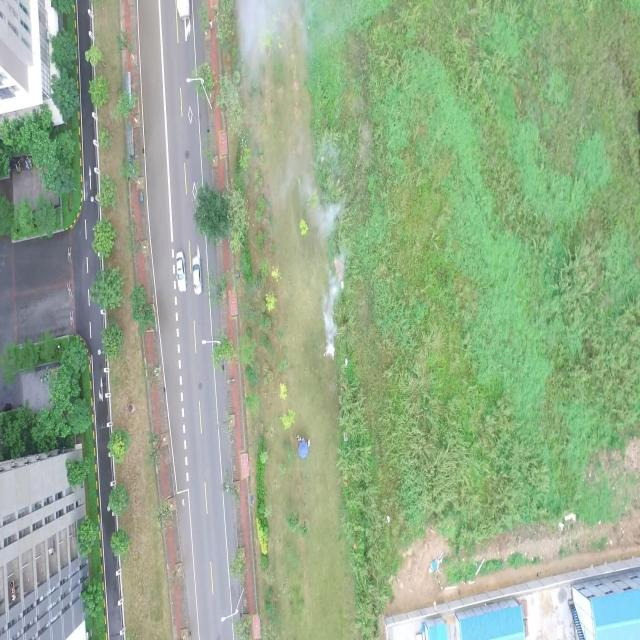smoke: (235, 3, 306, 65), (297, 183, 341, 233), (322, 262, 343, 356)
